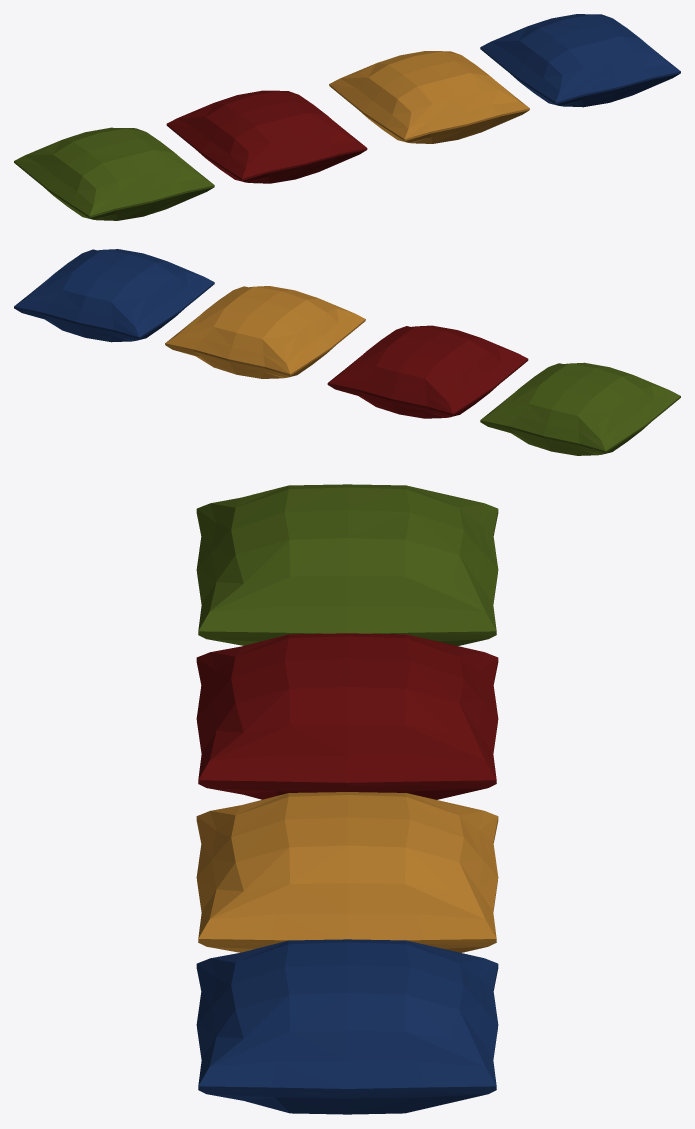
The model's file is cushions.glb.
3 views of the same model, one above another, from view 1: azimuth 30°, elevation 25°; view 2: azimuth 150°, elevation 25°; view 3: azimuth 270°, elevation 25° (orthographic). The views are drawn at different scales.
Parts seen in each view (by area): view 1: cushions; view 2: cushions; view 3: cushions.
Part boxes in pixels (bbox=[...]): cushions: bbox=[14, 14, 680, 220]; cushions: bbox=[14, 249, 680, 455]; cushions: bbox=[196, 484, 498, 1114].
Bounding box in the file's own units: 2.02 × 0.2 × 0.4418.
